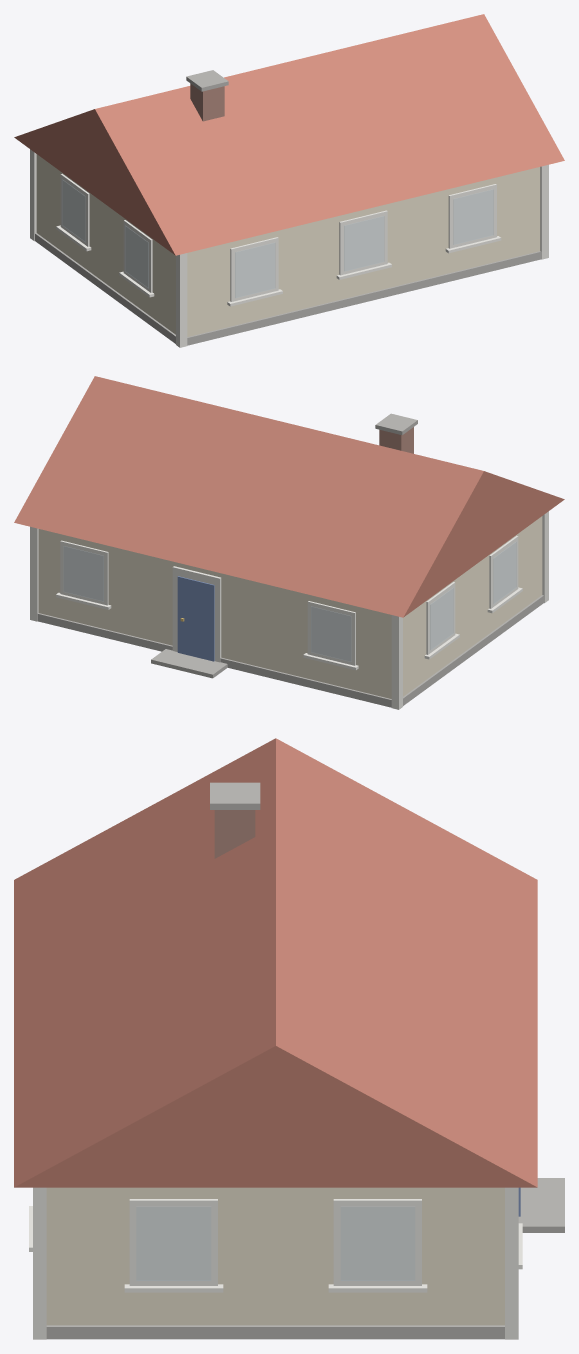
File: house_small_a.glb
3 renders of one model, top to bottom at view 1: azimuth 30°, elevation 25°; view 2: azimuth 150°, elevation 25°; view 3: azimuth 270°, elevation 25°, orthographic. The views are drawn at different scales.
Visible parts, largest first — view 1: roof, body; view 2: roof, body; view 3: roof, body.
Boxes of the visible parts, x1,y1,x2,y2 form: roof: (14, 14, 564, 255); body: (30, 149, 548, 347); roof: (14, 376, 564, 617); body: (30, 511, 548, 709); roof: (14, 738, 537, 1187); body: (29, 1178, 564, 1339).
Size of the model in its own units: 10.7 by 5.29 by 8.1.
